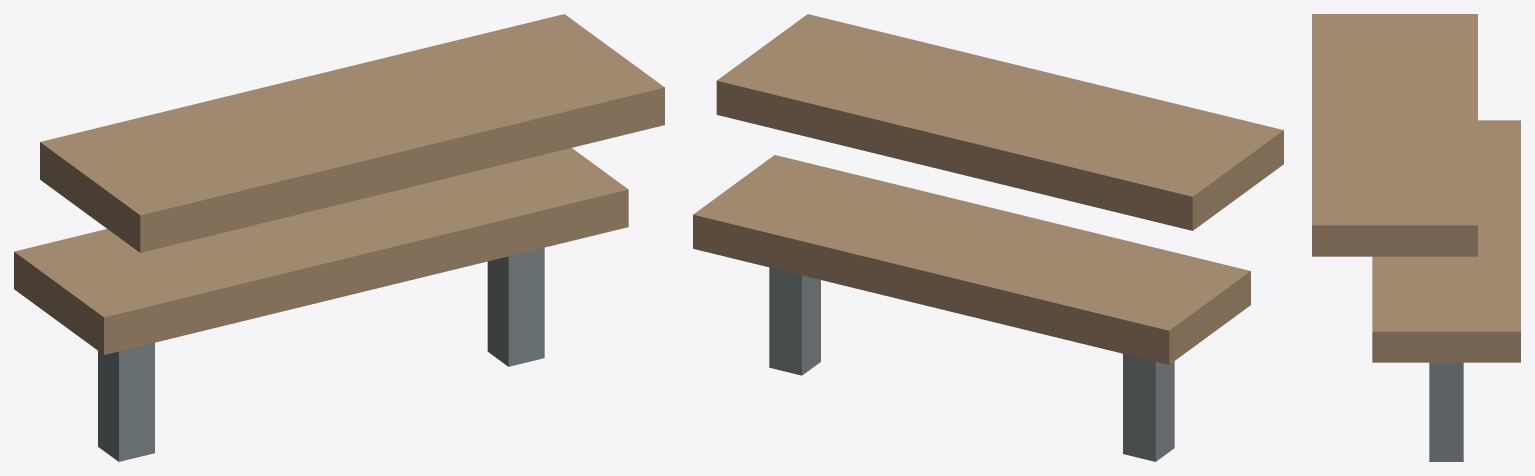
Rendered from PRP_STREET_007_bench.glb.
The picture shows the model from 3 angles, left to right: view 1: azimuth 30°, elevation 25°; view 2: azimuth 150°, elevation 25°; view 3: azimuth 270°, elevation 25°; orthographic projection. The views are drawn at different scales.
Parts seen in each view (by area): view 1: Part_10, Part_04, Part_07, Part_01, Part_19, Part_13, Part_08, Part_02, Part_20, Part_14; view 2: Part_10, Part_04, Part_06, Part_00, Part_12, Part_18, Part_08, Part_02, Part_14, Part_20; view 3: Part_10, Part_04, Part_09, Part_03, Part_21.
Part boxes in pixels (box(x1,y1,x2,y2)): Part_10: box(40, 14, 664, 215); Part_04: box(14, 148, 628, 317); Part_07: box(140, 87, 664, 252); Part_01: box(104, 189, 628, 354); Part_19: box(508, 247, 544, 366); Part_13: box(119, 342, 154, 461); Part_08: box(40, 142, 140, 252); Part_02: box(14, 252, 103, 354); Part_20: box(487, 256, 508, 366); Part_14: box(98, 351, 118, 461); Part_10: box(717, 14, 1283, 196); Part_04: box(693, 155, 1250, 330); Part_06: box(716, 81, 1192, 230); Part_00: box(693, 214, 1169, 364); Part_12: box(1123, 353, 1155, 461); Part_18: box(769, 267, 801, 375); Part_08: box(1192, 130, 1283, 230); Part_02: box(1169, 271, 1250, 364); Part_14: box(1155, 361, 1174, 461); Part_20: box(802, 275, 820, 375); Part_10: box(1312, 14, 1477, 225); Part_04: box(1372, 120, 1520, 331); Part_09: box(1312, 225, 1477, 256); Part_03: box(1372, 331, 1520, 362); Part_21: box(1429, 362, 1463, 461).
Bounding box in the file's own units: 1.75 × 0.99 × 0.73.
